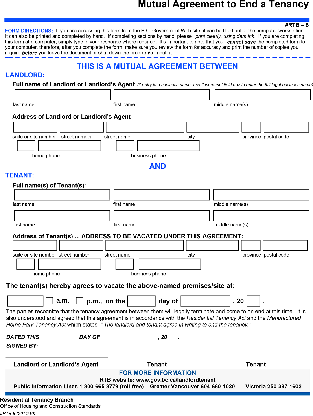checkbox: (75, 296, 84, 305), (46, 296, 53, 306)
textbox: (112, 208, 212, 224), (213, 86, 312, 102), (14, 87, 111, 103), (112, 87, 212, 102), (211, 188, 311, 203), (211, 208, 311, 223), (13, 188, 112, 203), (13, 208, 112, 223), (104, 118, 186, 136), (113, 188, 211, 203), (105, 237, 186, 253), (37, 137, 103, 155), (136, 137, 201, 155), (136, 256, 204, 273), (36, 257, 104, 272), (184, 238, 241, 254), (185, 119, 241, 135), (58, 236, 105, 253), (179, 294, 232, 309), (261, 119, 310, 135), (11, 237, 59, 253), (58, 119, 105, 135), (261, 238, 310, 252), (12, 120, 59, 134), (6, 294, 44, 307), (126, 294, 158, 307), (239, 238, 263, 254), (241, 119, 264, 135), (114, 256, 136, 272), (13, 139, 38, 153), (15, 257, 37, 271), (244, 294, 264, 309), (115, 139, 136, 153)
textline: (213, 350, 310, 363), (4, 350, 110, 360), (116, 350, 207, 360)
